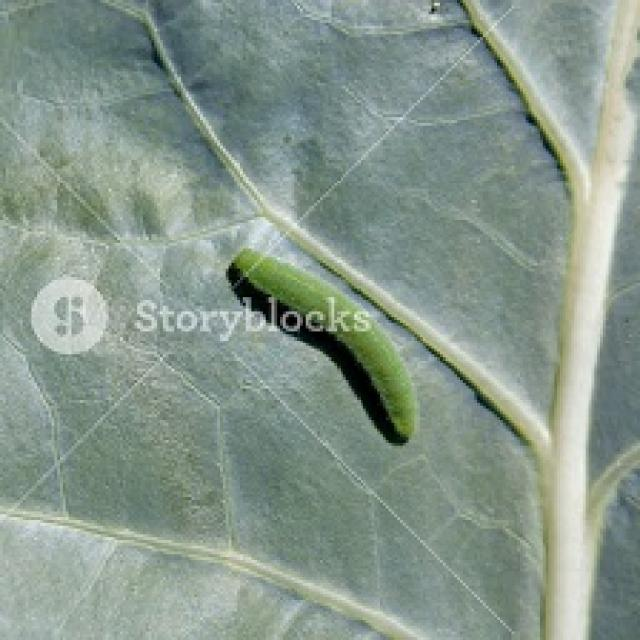Cabbage-worm: (228, 228, 458, 460)
